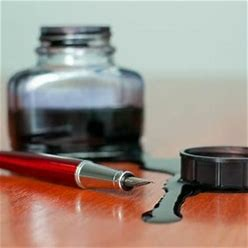pen: (1, 151, 154, 192)
